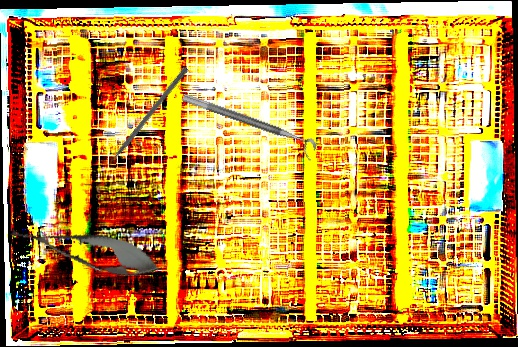Fixation Ring: (177, 92, 319, 162)
Micro Scissor: (5, 213, 167, 287)
Pusher: (99, 65, 190, 174)
